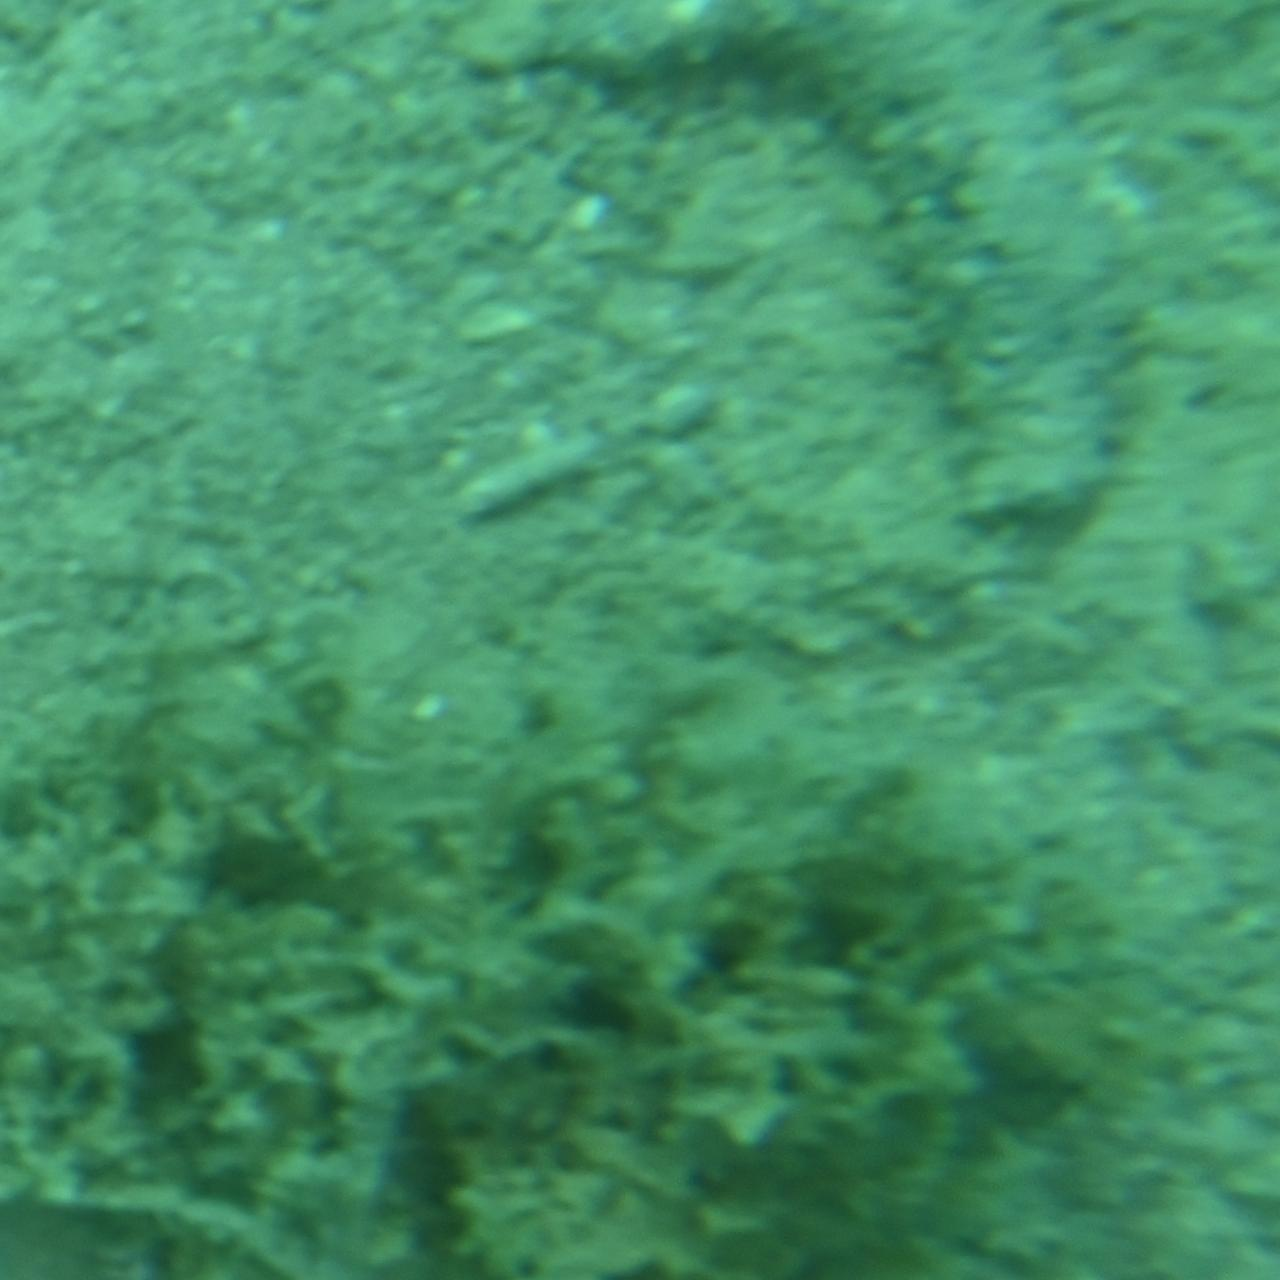Holothuria tubulosa: (516, 0, 1133, 564)
Phaeophyceae -cfr Cystoseira-: (0, 712, 1096, 1280)
